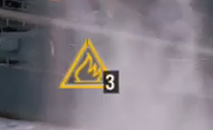3fire: (57, 55, 119, 94)
